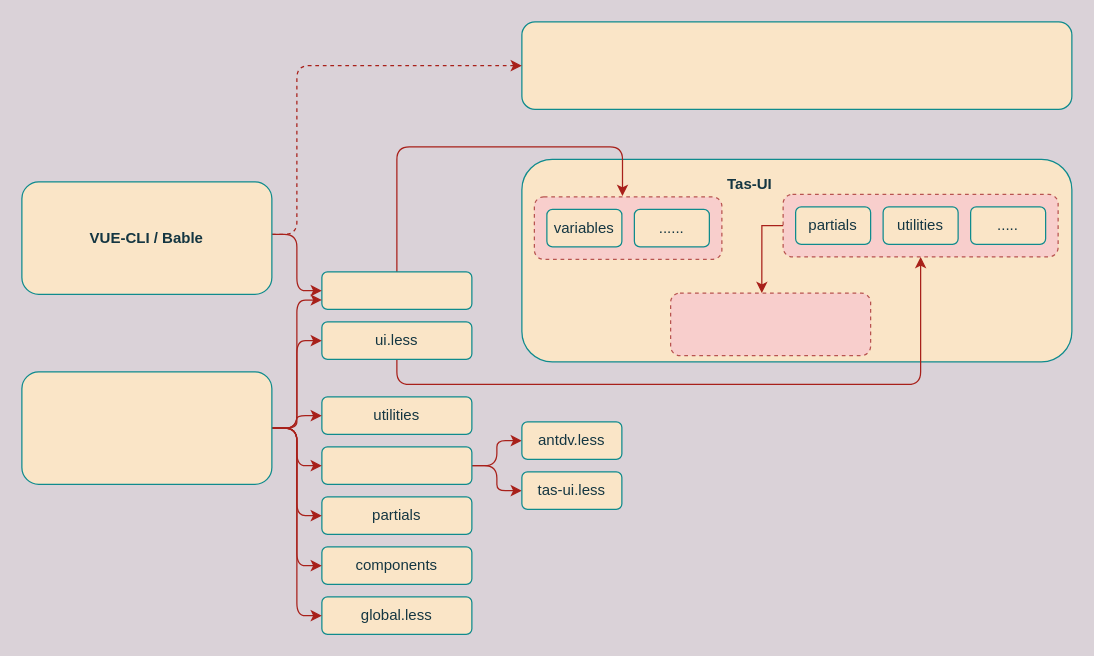
Some shapes in this 1094 by 656 pixel diagram are drawn without their labels. The centre of each missing label's shape, as x and y in pixels:
Ant Design UI: pixel 796 65
bootstrap-ui: pixel 770 324
overrides: pixel 396 465
styles: pixel 146 427
variables.less: pixel 396 290
